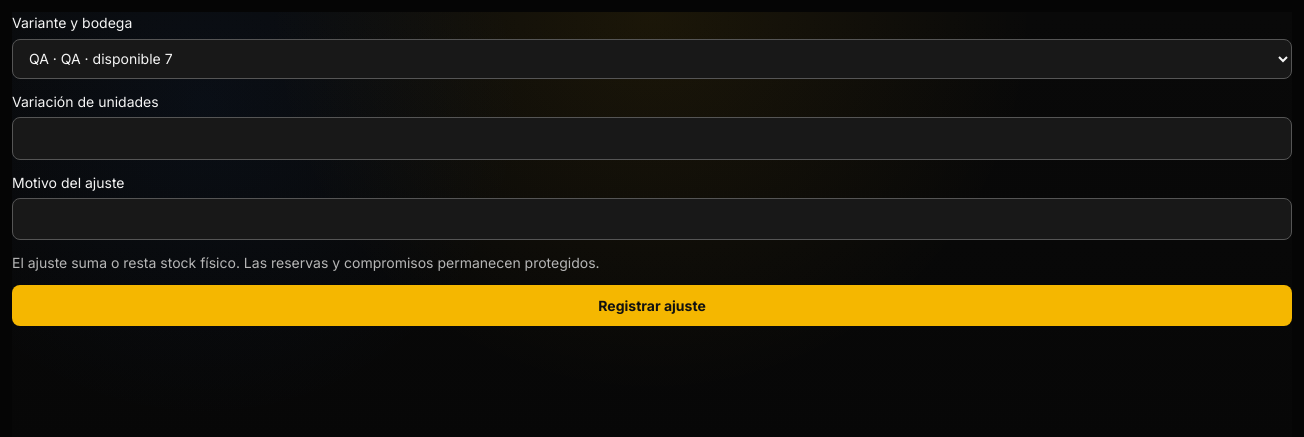
INV mutation observability without invented success › does not show a success for HTTP403
The width and height of the screenshot is (1304, 437).
Type "5" into the number field labelled "Variación de unidades" at [652, 138], box [12, 117, 1292, 160]
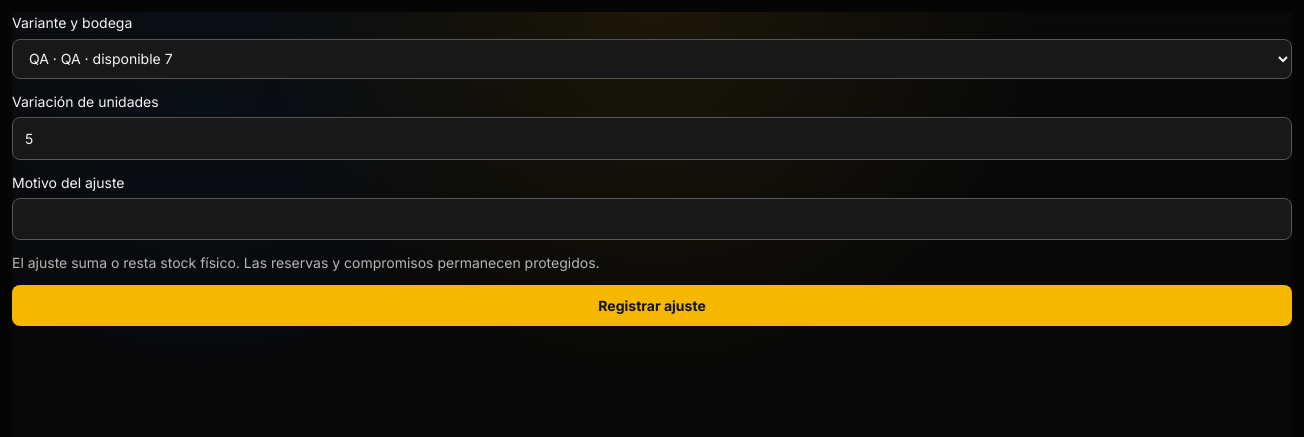
Type "Conteo verificado" into the field labelled "Motivo del ajuste" at [652, 219], box [12, 198, 1292, 240]
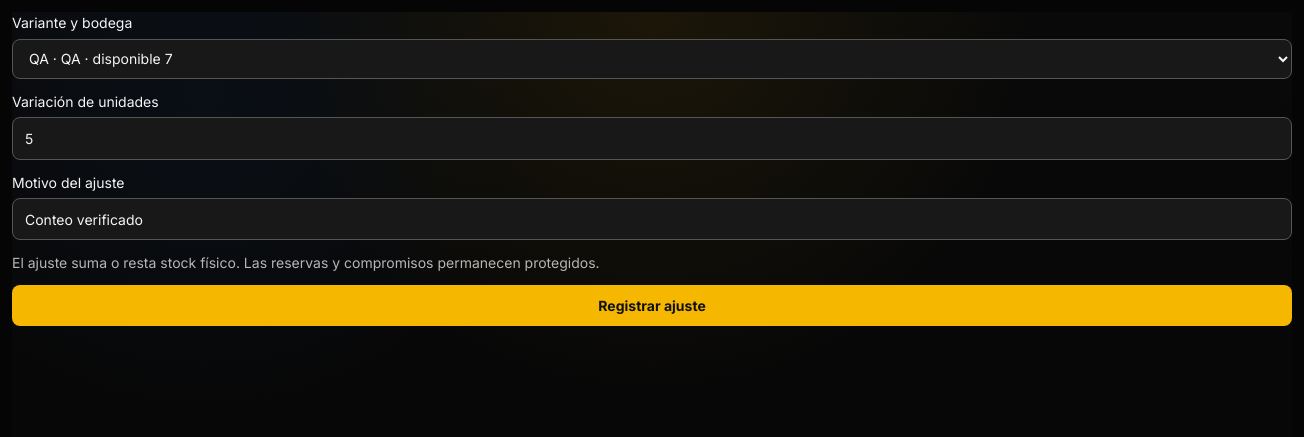
Submit the form named "Ajustar stock"
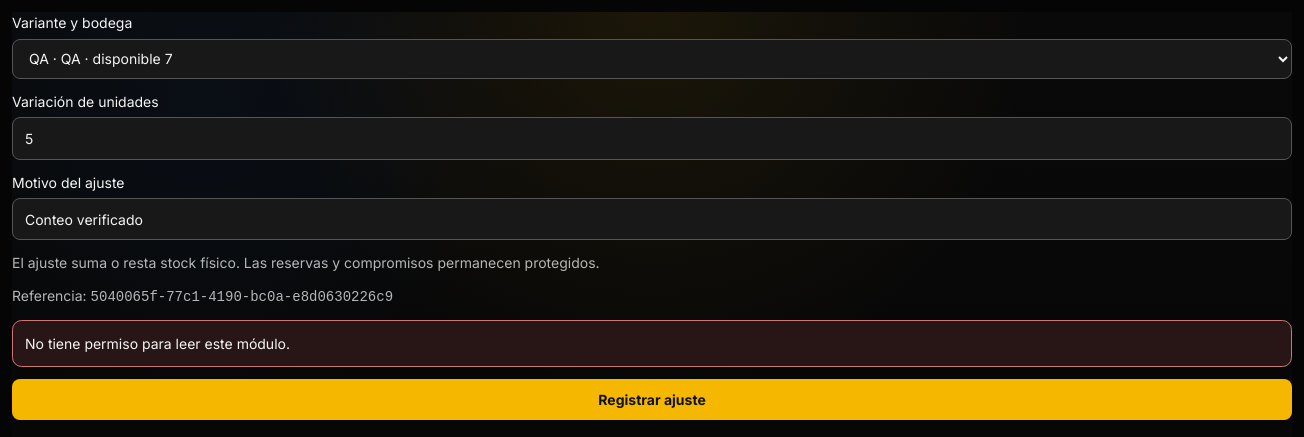
Expected: the message "No tiene permiso para leer este módulo." is shown, [12, 320, 1292, 367]
